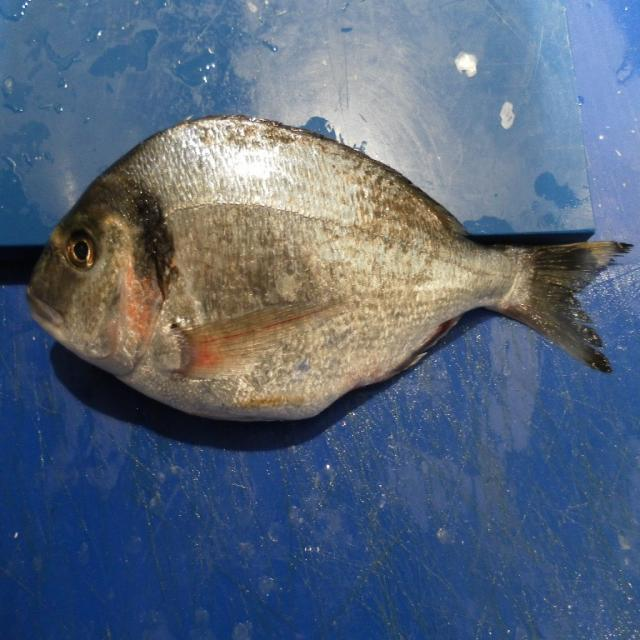Gilt-Head-Bream-c-ipura-: (26, 116, 632, 425)
